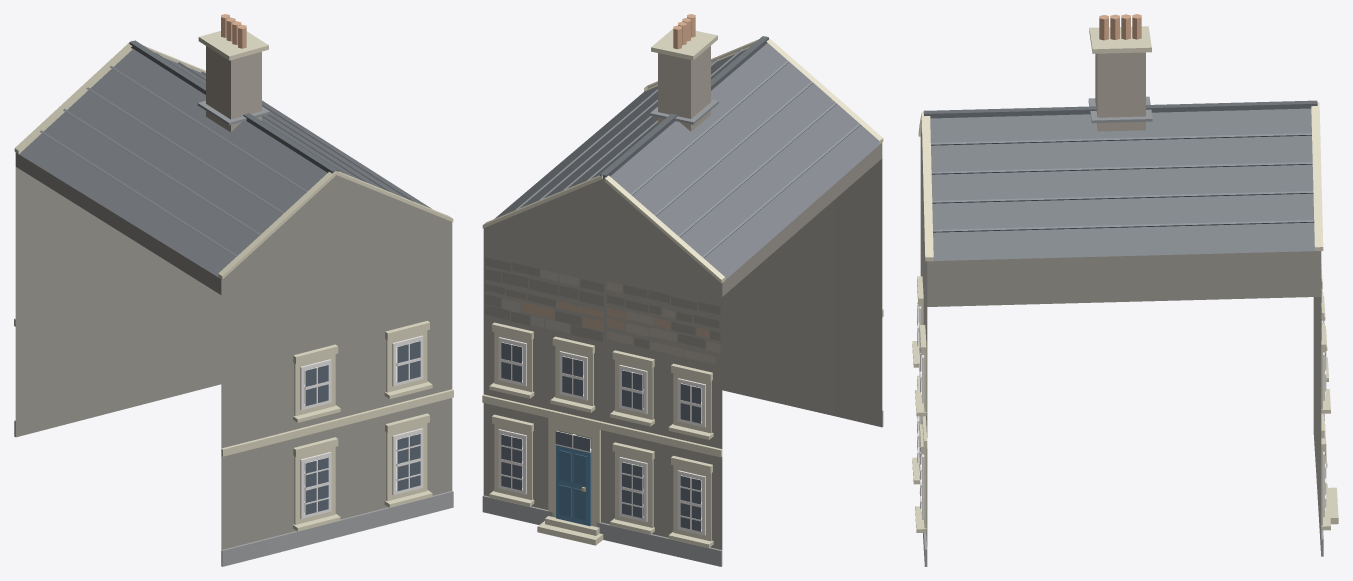
3 renders of one model, left to right at view 1: azimuth 30°, elevation 25°; view 2: azimuth 150°, elevation 25°; view 3: azimuth 270°, elevation 25°, orthographic. The views are drawn at different scales.
Visible parts, largest first — view 1: rubble, slate, dress_buff, plinth, slate_lt, frame, chim_stone, slate_dk, window_glass_011, window_glass_009, window_glass_012, window_glass_010 (+1 smaller); view 2: rubble, slate, dress_buff, rubble_dk, frame, slate_lt, chim_stone, plinth, rubble_lt, door_blue_p, rubble_rust, slate_dk (+9 smaller); view 3: slate, rubble, dress_buff, slate_lt, chim_stone, slate_dk, frame, pot, lead.
Part boxes in pixels (bbox=[...]): rubble: bbox=[15, 152, 452, 549]; slate: bbox=[19, 49, 431, 277]; dress_buff: bbox=[14, 31, 453, 531]; plinth: bbox=[14, 420, 453, 566]; slate_lt: bbox=[40, 52, 416, 256]; frame: bbox=[300, 335, 423, 518]; chim_stone: bbox=[206, 46, 261, 132]; slate_dk: bbox=[129, 40, 338, 173]; window_glass_011: bbox=[396, 433, 420, 491]; window_glass_009: bbox=[305, 457, 328, 514]; window_glass_012: bbox=[396, 341, 420, 382]; window_glass_010: bbox=[305, 364, 328, 406]; rubble: bbox=[483, 143, 882, 549]; slate: bbox=[494, 43, 880, 279]; dress_buff: bbox=[482, 29, 883, 547]; rubble_dk: bbox=[485, 257, 720, 348]; frame: bbox=[498, 337, 705, 535]; slate_lt: bbox=[514, 48, 860, 257]; chim_stone: bbox=[658, 46, 710, 131]; plinth: bbox=[482, 410, 883, 566]; rubble_lt: bbox=[502, 269, 720, 364]; door_blue_p: bbox=[559, 450, 586, 520]; rubble_rust: bbox=[521, 301, 708, 338]; slate_dk: bbox=[600, 36, 768, 179]; slate: bbox=[930, 108, 1314, 260]; rubble: bbox=[920, 128, 1321, 555]; dress_buff: bbox=[912, 26, 1338, 532]; slate_lt: bbox=[931, 133, 1314, 232]; chim_stone: bbox=[1095, 52, 1145, 131]; slate_dk: bbox=[923, 100, 1317, 118]; frame: bbox=[917, 289, 1326, 519]; pot: bbox=[1099, 14, 1141, 40]; lead: bbox=[1088, 96, 1152, 123].
Size of the model in its own units: 7.53 by 12.64 by 10.11.
